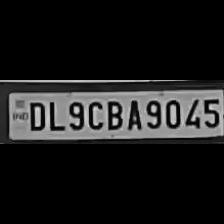0: (162, 97, 180, 129)
4: (182, 96, 200, 128)
5: (199, 96, 221, 128)
9: (142, 96, 162, 130), (65, 98, 85, 130)
A: (124, 97, 142, 131)
B: (104, 96, 122, 130)
C: (85, 96, 103, 130)
D: (24, 99, 46, 131)
L: (45, 97, 63, 130)
